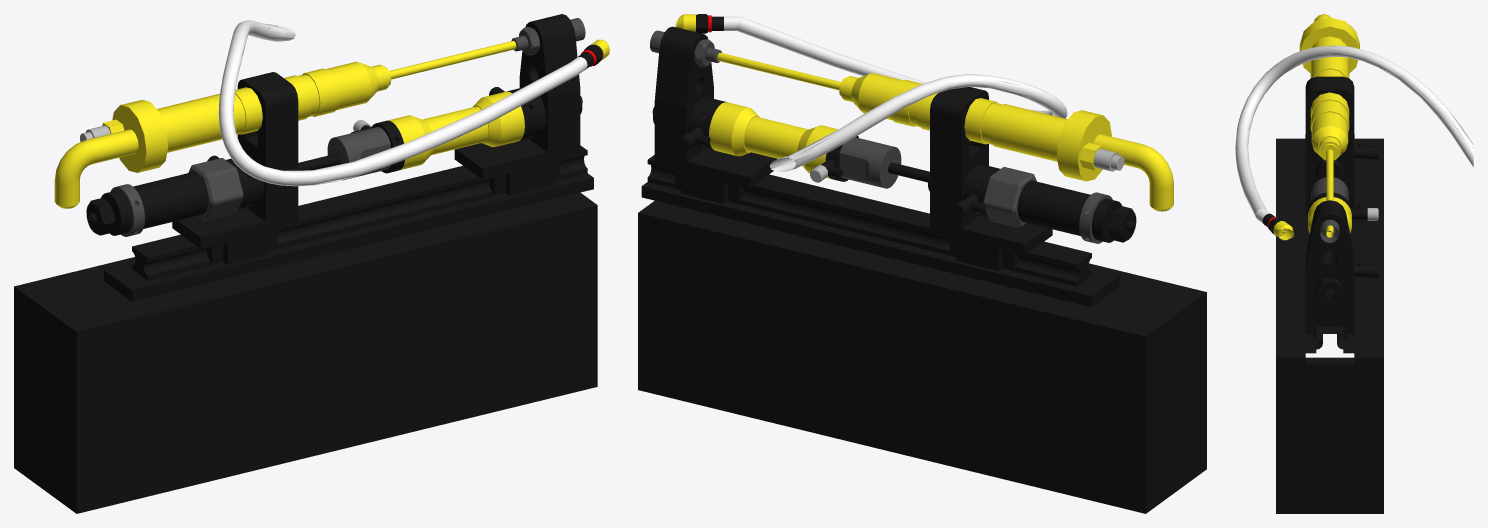
File: PinInsertionStation_Cube02.glb
The picture shows the model from 3 angles, left to right: view 1: azimuth 30°, elevation 25°; view 2: azimuth 150°, elevation 25°; view 3: azimuth 270°, elevation 25°; orthographic projection. The views are drawn at different scales.
Parts seen in each view (by area): view 1: color-25; view 2: color-25; view 3: color-25.
Boxes of the visible parts, box(x1,y1,x2,y2) form: color-25: box(14, 14, 609, 513); color-25: box(638, 14, 1206, 513); color-25: box(1235, 14, 1473, 513).
Bounding box in the file's own units: 0.4925 × 0.3411 × 0.2207.
